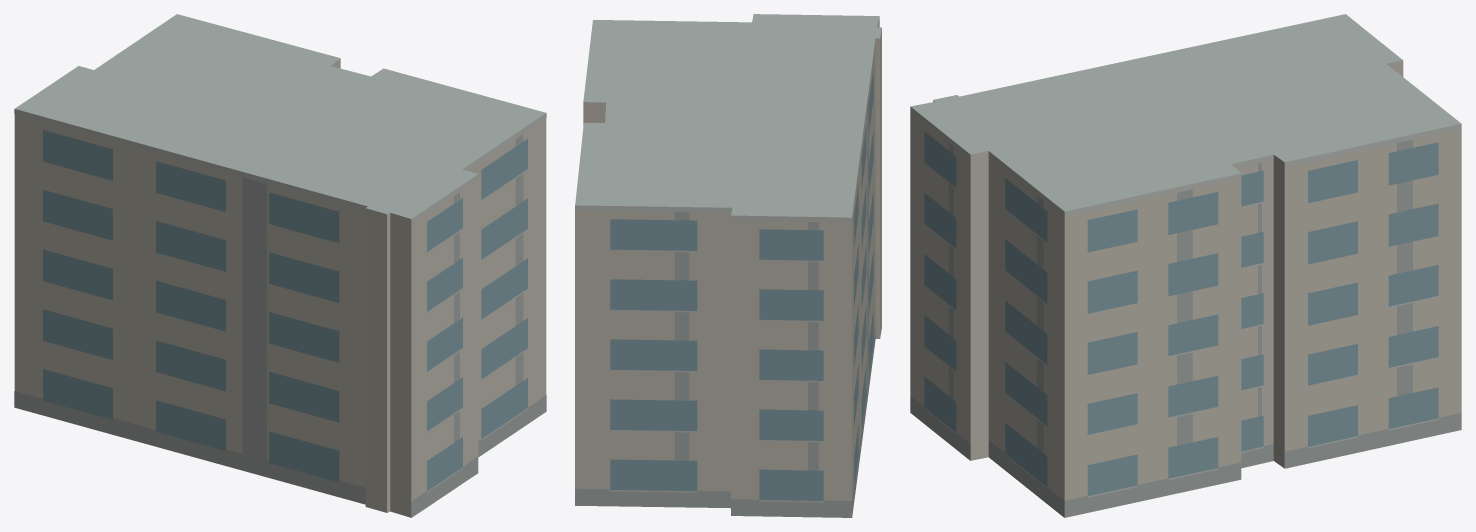
Rendered from survey-upis-32838358.glb.
3 renders of one model, left to right at view 1: azimuth 30°, elevation 25°; view 2: azimuth 150°, elevation 25°; view 3: azimuth 270°, elevation 25°, orthographic. The views are drawn at different scales.
Visible parts, largest first — view 1: survey-upis-32838358.tmp; view 2: survey-upis-32838358.tmp; view 3: survey-upis-32838358.tmp.
Part boxes in pixels (x1=…): survey-upis-32838358.tmp: x1=14, y1=14, x2=546, y2=517; survey-upis-32838358.tmp: x1=575, y1=14, x2=881, y2=517; survey-upis-32838358.tmp: x1=910, y1=14, x2=1461, y2=517.
Size of the model in its own units: 18.8 by 13.58 by 22.16.
